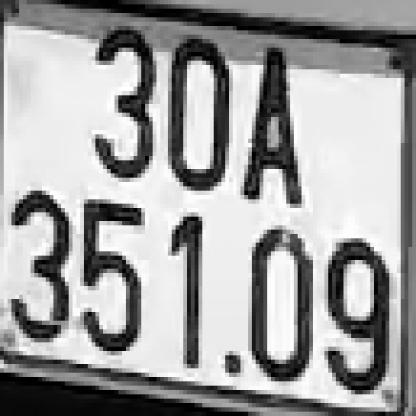0: (248, 221, 309, 381), (168, 39, 225, 195)
1: (160, 212, 210, 364)
3: (92, 30, 156, 182), (7, 195, 68, 338)
5: (84, 199, 145, 347)
9: (324, 238, 386, 386)
A: (240, 39, 302, 208)
